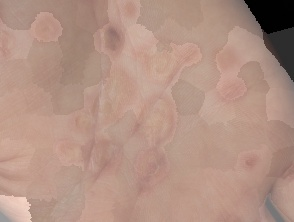SJS-TEN: (76, 3, 194, 199)
